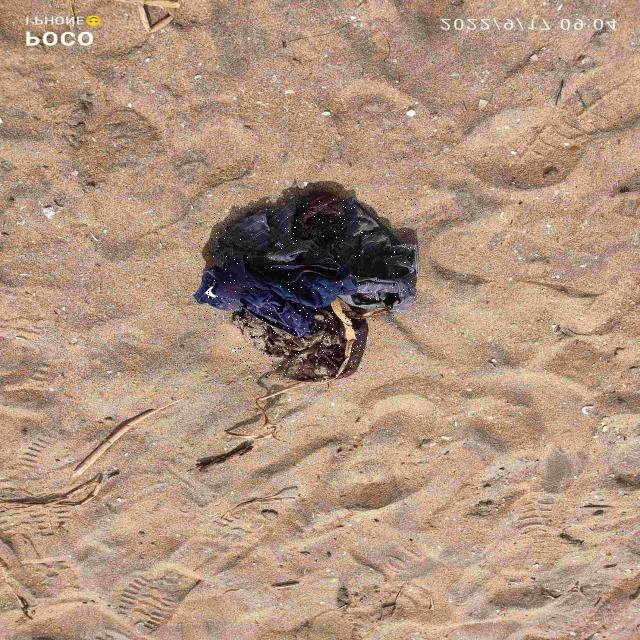other: (193, 193, 418, 337), (231, 306, 345, 381), (336, 318, 368, 379)
